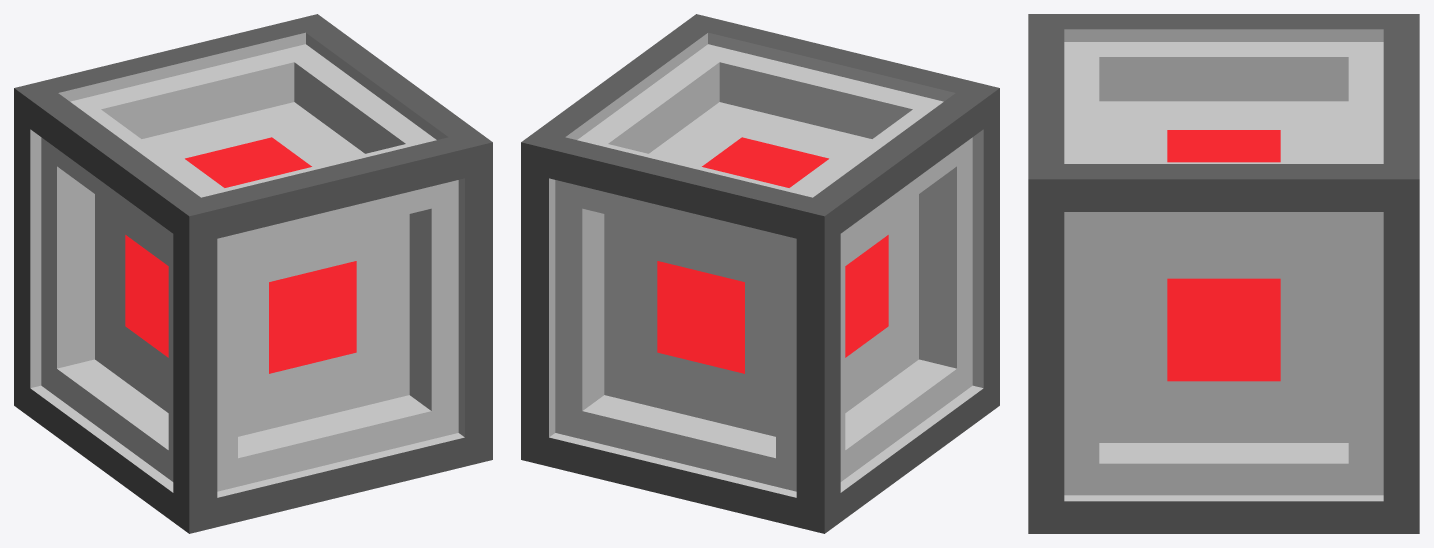
File: cuboTest.glb
The picture shows the model from 3 angles, left to right: view 1: azimuth 30°, elevation 25°; view 2: azimuth 150°, elevation 25°; view 3: azimuth 270°, elevation 25°; orthographic projection. The views are drawn at different scales.
Visible parts, largest first — view 1: Cube; view 2: Cube; view 3: Cube.
Part boxes in pixels (box(x1,y1,x2,y2)): Cube: box(14, 14, 492, 533); Cube: box(521, 14, 999, 533); Cube: box(1028, 14, 1419, 533).
Bounding box in the file's own units: 10 × 10 × 10.
